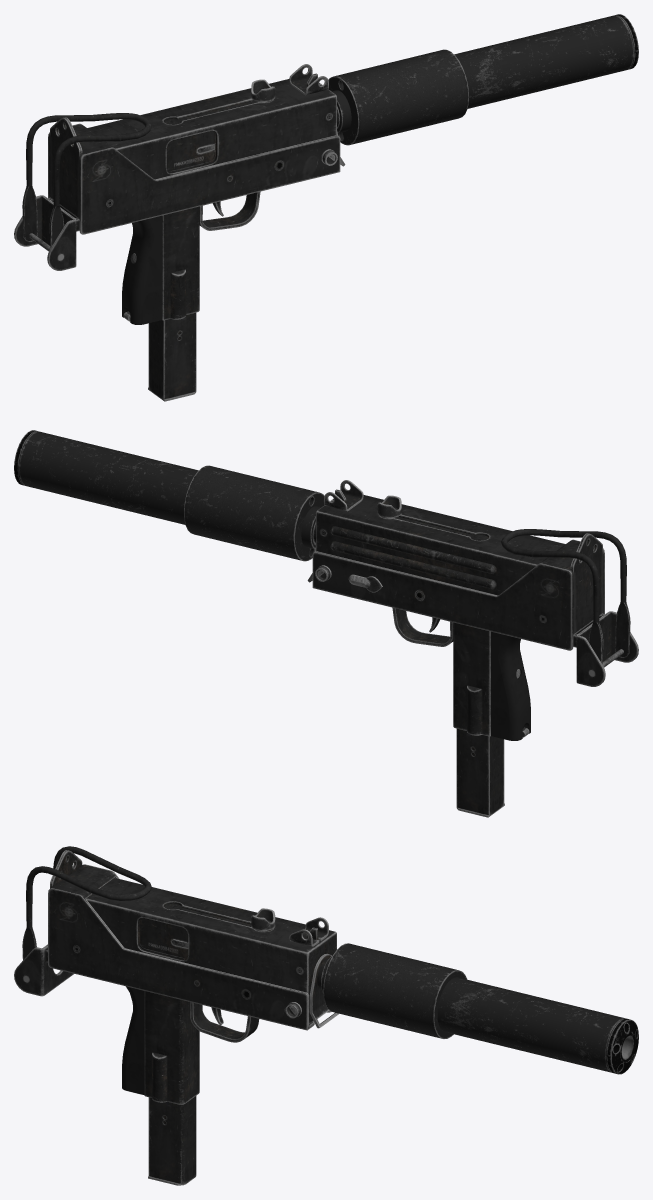
Rendered from dualmac.glb.
The picture shows the model from 3 angles, top to bottom: view 1: azimuth 30°, elevation 25°; view 2: azimuth 150°, elevation 25°; view 3: azimuth 330°, elevation 25°; orthographic projection.
Visible parts, largest first — view 1: base, silencer, mag, base_4, base_3, base_5; view 2: base, silencer, mag, base_4, base_3; view 3: base, silencer, mag, base_4, base_3, base_5, bolt.
Part boxes in pixels (bbox=[...]): base: bbox=[48, 64, 345, 324]; silencer: bbox=[328, 14, 638, 145]; mag: bbox=[148, 312, 196, 401]; base_4: bbox=[22, 113, 151, 251]; base_3: bbox=[14, 195, 79, 270]; base_5: bbox=[166, 130, 215, 172]; base: bbox=[307, 480, 604, 740]; silencer: bbox=[14, 430, 324, 561]; mag: bbox=[456, 728, 504, 817]; base_4: bbox=[501, 529, 630, 667]; base_3: bbox=[573, 611, 638, 686]; base: bbox=[48, 850, 339, 1104]; silencer: bbox=[321, 943, 638, 1074]; mag: bbox=[148, 1096, 196, 1185]; base_4: bbox=[22, 846, 151, 959]; base_3: bbox=[14, 944, 74, 996]; base_5: bbox=[139, 918, 188, 959]; bolt: bbox=[251, 908, 275, 931].
Bounding box in the file's own units: 0.5146 × 0.2465 × 0.0596.
3 materials, 3 textured.
